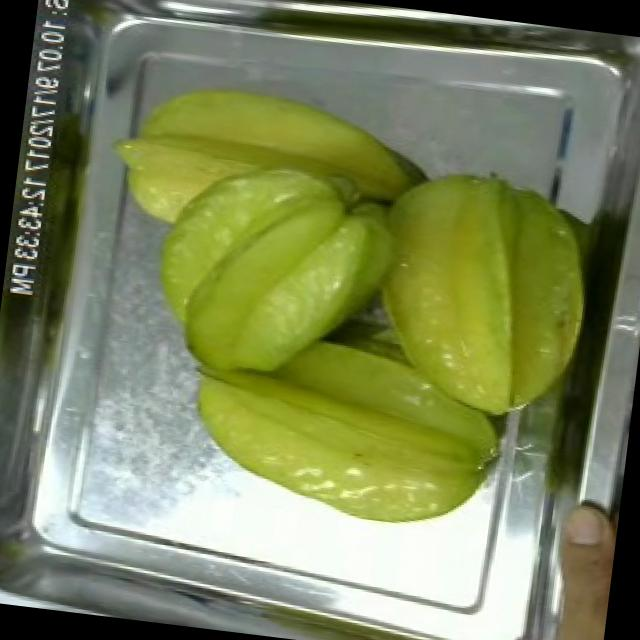fruit: (160, 296, 530, 560), (128, 64, 388, 408), (336, 143, 618, 445), (512, 487, 620, 640)
